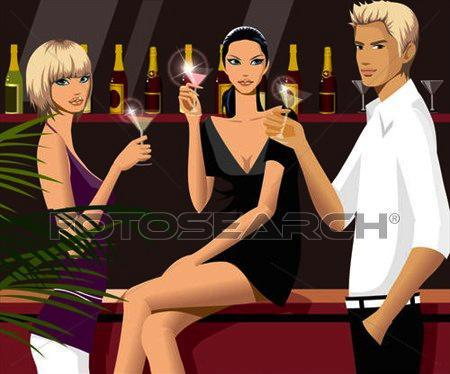bottle: (100, 41, 130, 117), (139, 43, 167, 114), (316, 42, 341, 119), (1, 41, 25, 120), (281, 40, 305, 113)
person: (123, 24, 301, 338), (283, 5, 439, 358), (20, 34, 153, 369)
